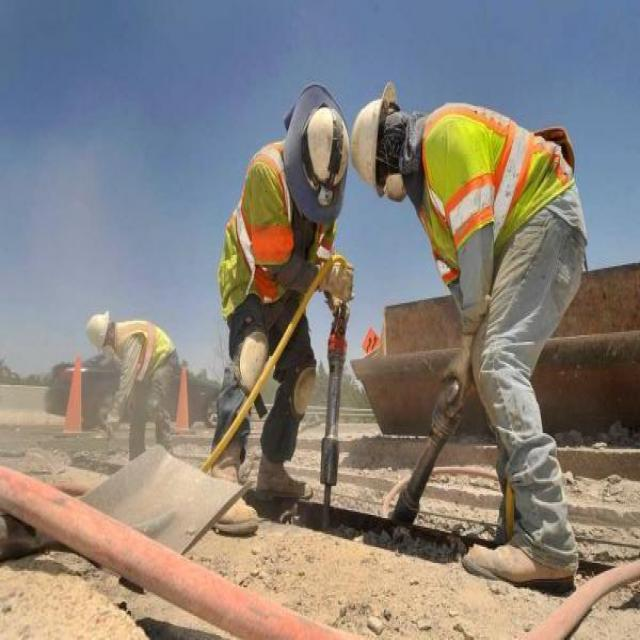Reflective-Jacket: (413, 95, 591, 298), (207, 135, 350, 329), (106, 315, 178, 388)
Safety-Helmet: (347, 87, 398, 194), (83, 306, 115, 358)
